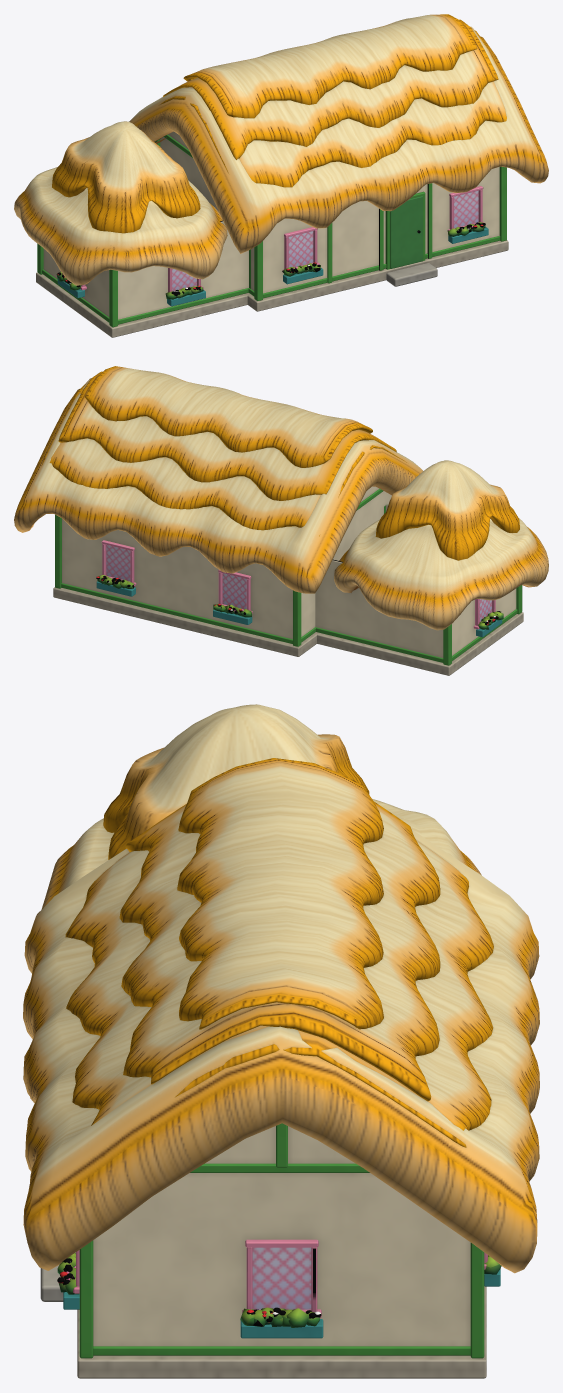
The model's file is cottage_b.glb.
3 views of the same model, one above another, from view 1: azimuth 30°, elevation 25°; view 2: azimuth 150°, elevation 25°; view 3: azimuth 270°, elevation 25° (orthographic). The views are drawn at different scales.
Parts seen in each view (by area): view 1: cottage_b; view 2: cottage_b; view 3: cottage_b.
Boxes of the visible parts, <box> form: cottage_b: <box>14,14,548,337</box>; cottage_b: <box>14,366,548,675</box>; cottage_b: <box>23,704,539,1378</box>.
Size of the model in its own units: 16.71 by 7.01 by 8.47.
Materials: 1 (1 with a texture image).
